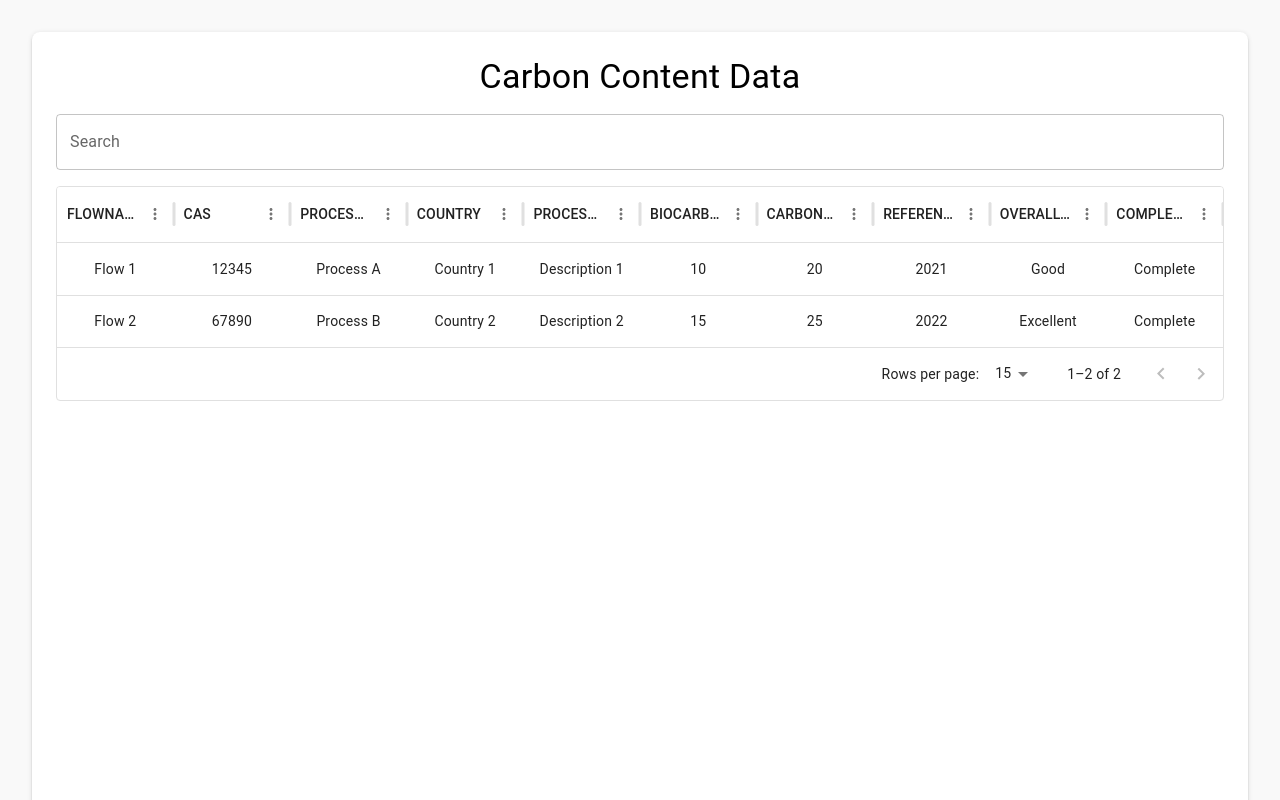
Test case: App Component › should filter rows based on search input
The image size is (1280, 800).
Expected: the heading "Carbon Content Data" is shown, 480,56 -> 800,96
Find the search box and simulate typing in the input
Type "Flow 1" into the field labelled "Search".
click(640, 142); type("Flow 1")  # box 56,114 -> 1224,170
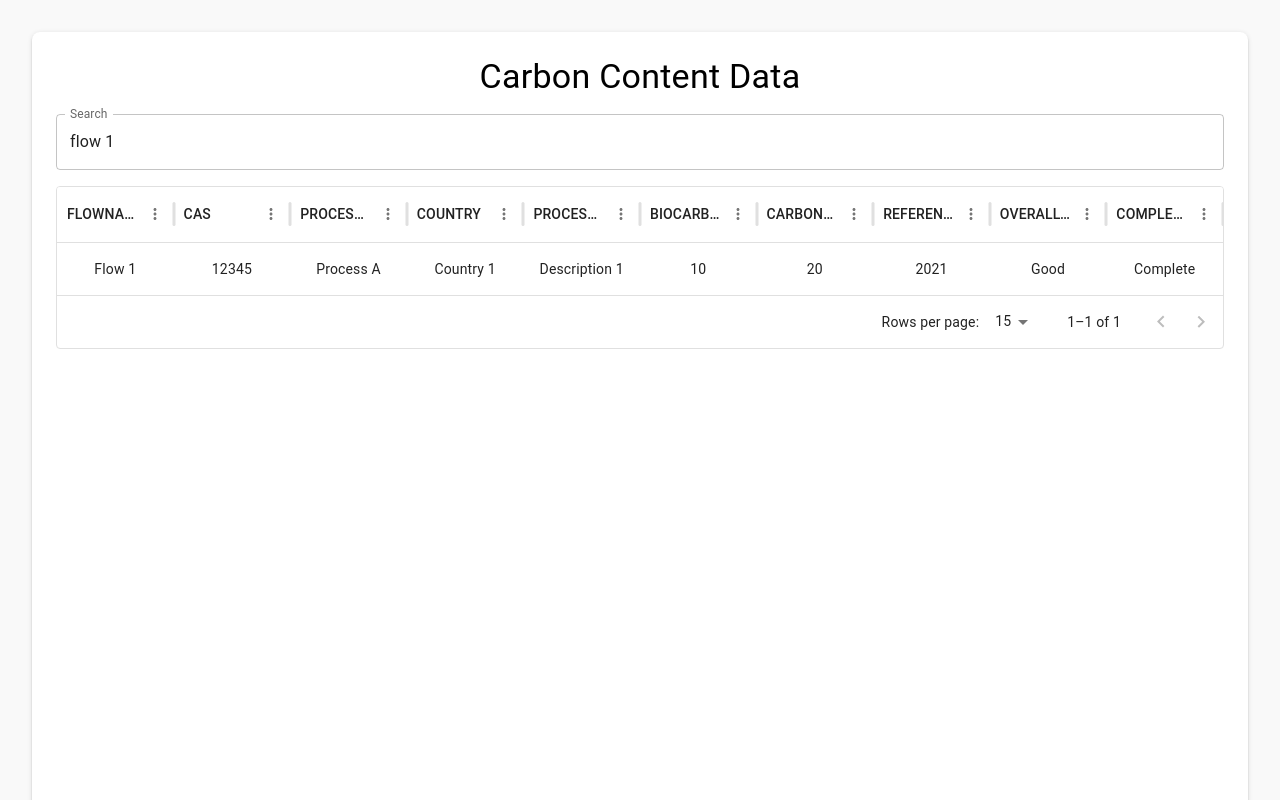
Expected: the text "Flow 1" is shown, 94,261 -> 136,277
Expected: the text "Flow 2" is gone
